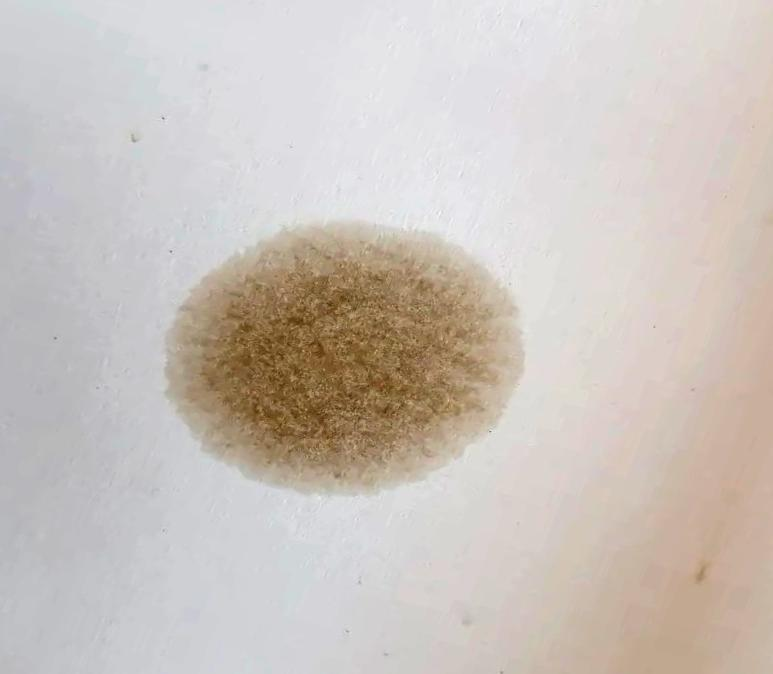stain: (150, 214, 533, 511)
